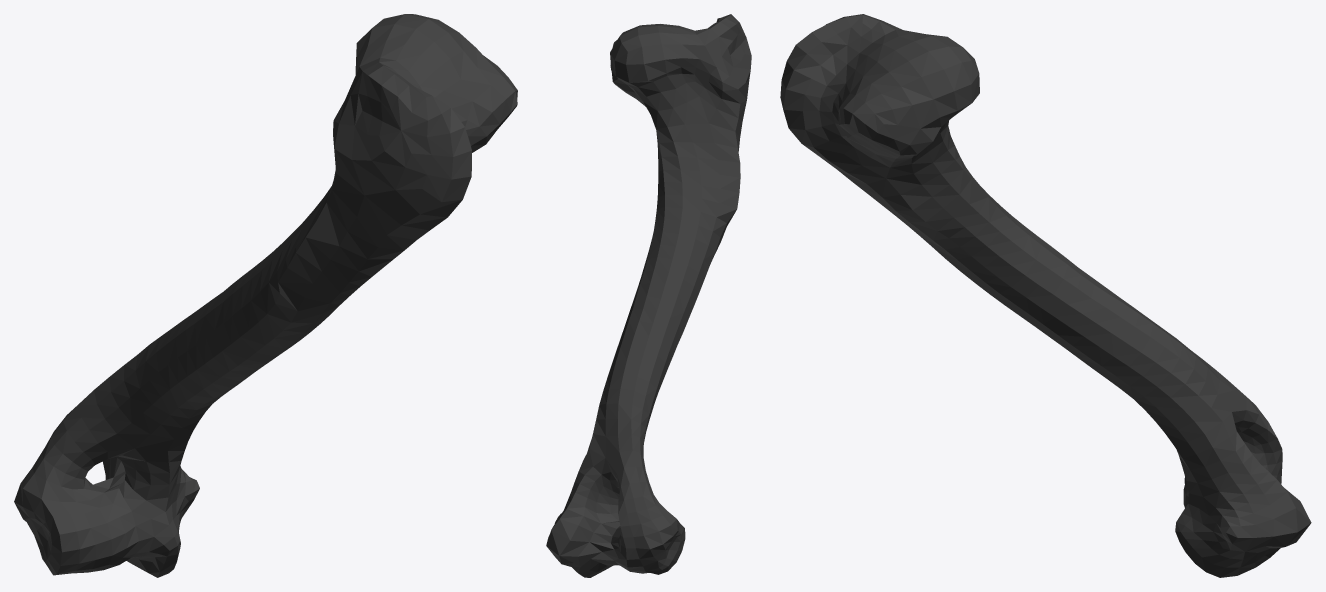
Rendered from Humerus_R.glb.
The picture shows the model from 3 angles, left to right: view 1: azimuth 30°, elevation 25°; view 2: azimuth 150°, elevation 25°; view 3: azimuth 270°, elevation 25°; orthographic projection. The views are drawn at different scales.
Visible parts, largest first — view 1: Humerus_R; view 2: Humerus_R; view 3: Humerus_R.
Boxes of the visible parts, x1,y1,x2,y2 form: Humerus_R: (14,14,517,577); Humerus_R: (546,14,751,577); Humerus_R: (780,14,1311,577).
Bounding box in the file's own units: 3.87 × 8.51 × 7.17.
Materials: 1 (1 with a texture image).
